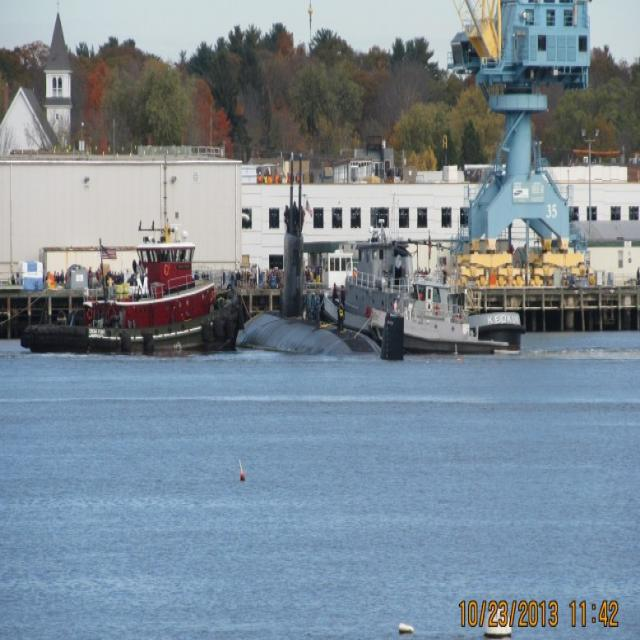submarine: (242, 157, 406, 361)
